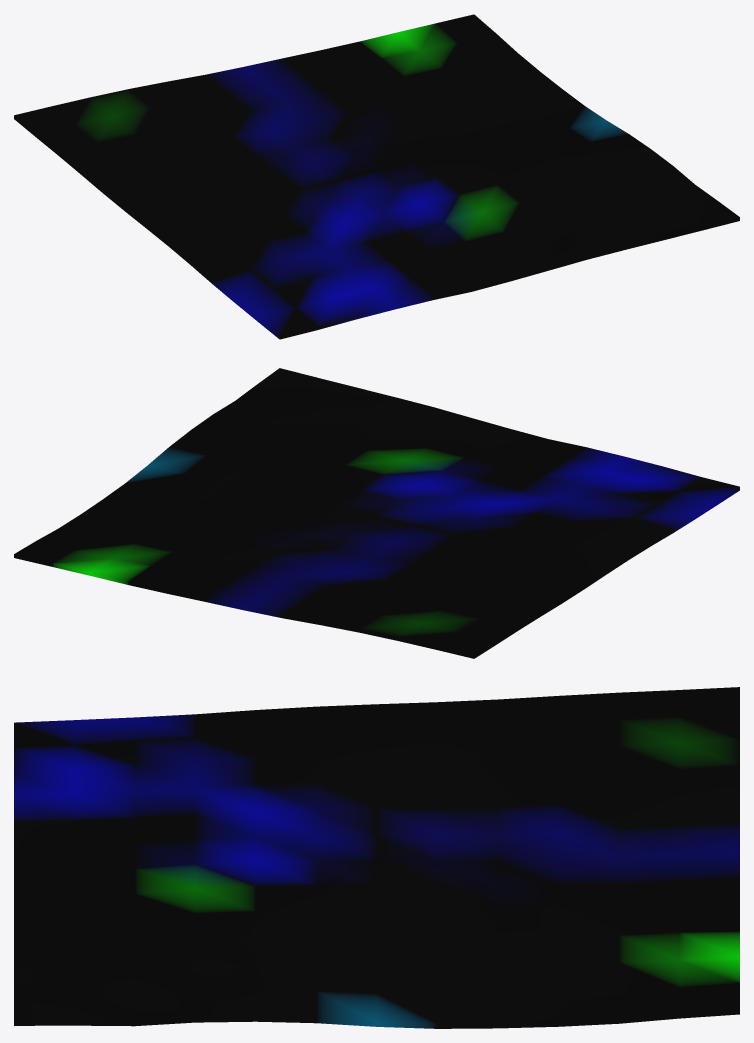
File: coast_17_4.glb
3 renders of one model, top to bottom at view 1: azimuth 30°, elevation 25°; view 2: azimuth 150°, elevation 25°; view 3: azimuth 270°, elevation 25°, orthographic. The views are drawn at different scales.
Parts seen in each view (by area): view 1: terrain; view 2: terrain; view 3: terrain.
Part boxes in pixels (bbox=[...]): terrain: bbox=[14, 14, 739, 339]; terrain: bbox=[14, 368, 739, 658]; terrain: bbox=[14, 687, 739, 1028].
Size of the model in its own units: 192 by 11.87 by 192.
